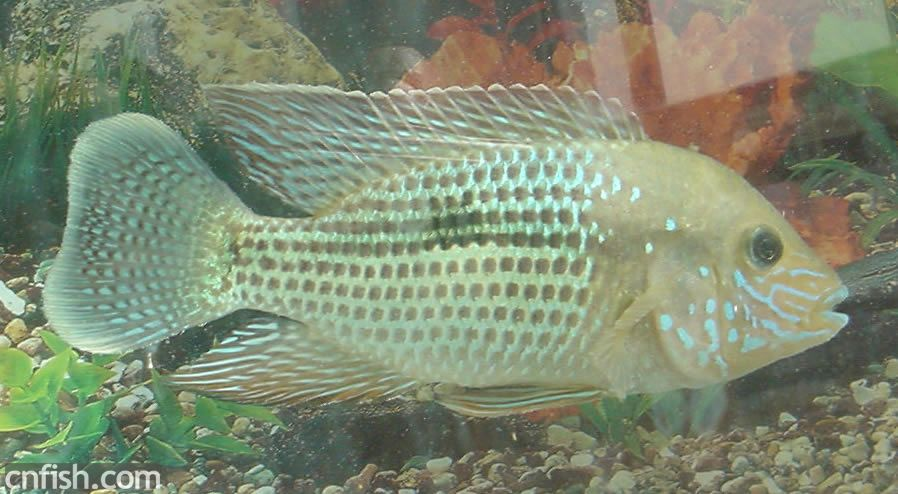fish: (31, 64, 850, 437)
